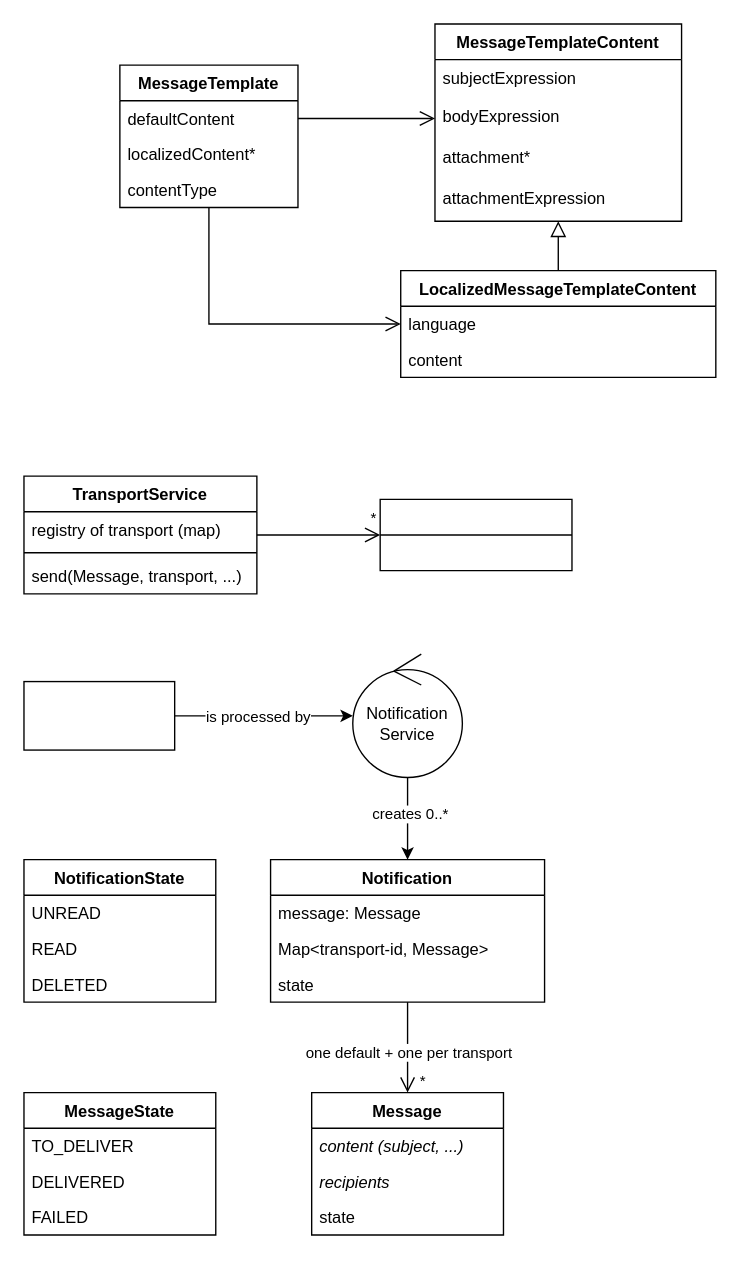
Some shapes in this 740 by 1263 pixel diagram are drawn without their labels. Here are the shapes that lost their labels. From the top down, the centre of each, then its label:
At point (475, 534): "Transport".
At point (99, 715): "<<runtime>> Event".
